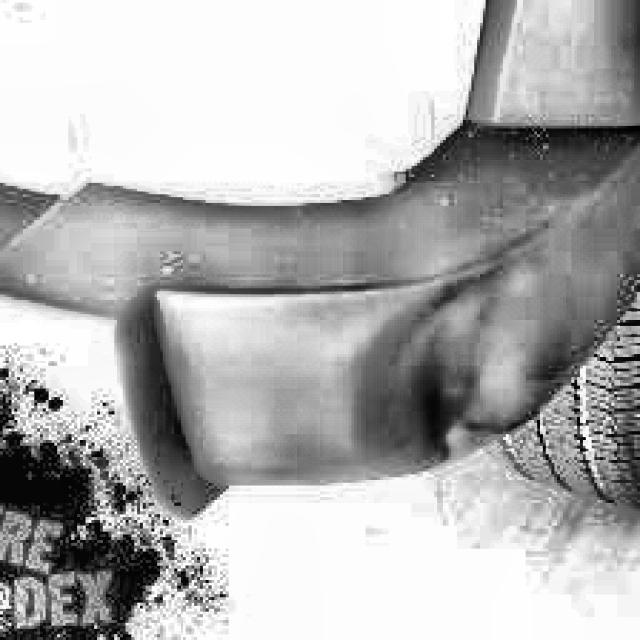bumper_dent: (353, 295, 509, 465)
